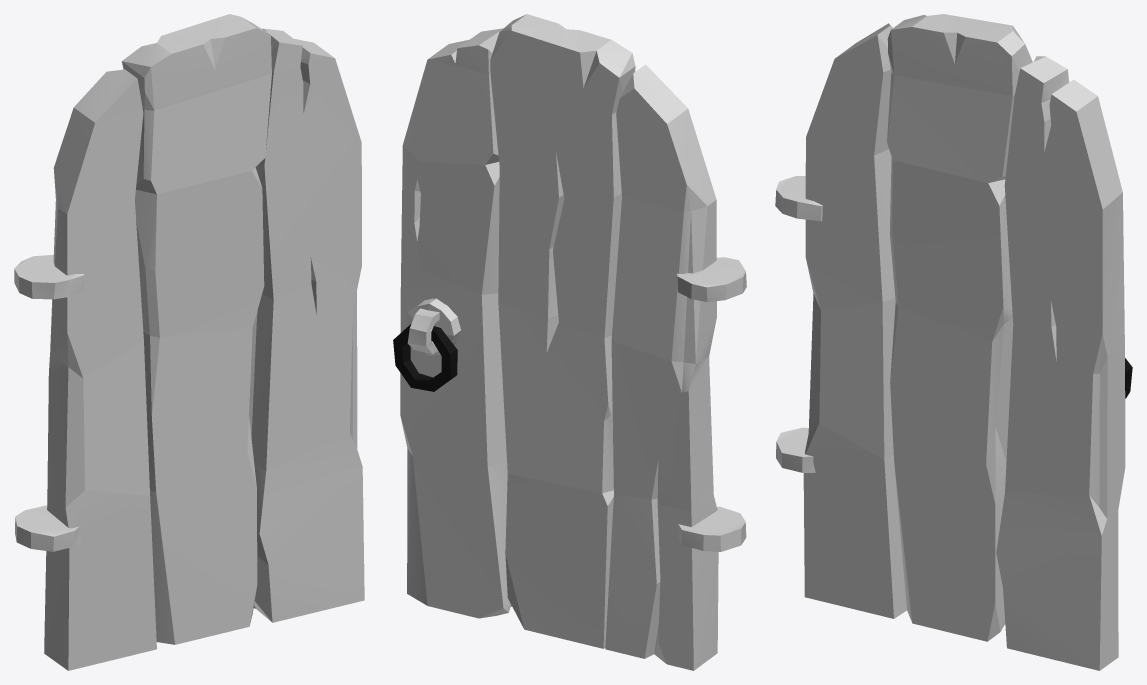
File: NGF_Env_Door_02.fbx
The picture shows the model from 3 angles, left to right: view 1: azimuth 30°, elevation 25°; view 2: azimuth 150°, elevation 25°; view 3: azimuth 330°, elevation 25°; orthographic projection.
Parts seen in each view (by area): view 1: NGF_Env_Door_02, NGF_Env_Hinges_06; view 2: NGF_Env_Door_02, NGF_Env_Hinges_06, NGF_Env_Handle_02, NGF_Env_Handle_attachment_02; view 3: NGF_Env_Door_02, NGF_Env_Hinges_06.
Boxes of the visible parts, <box> form: NGF_Env_Door_02: <box>44,14,364,670</box>; NGF_Env_Hinges_06: <box>14,254,84,551</box>; NGF_Env_Door_02: <box>400,14,718,670</box>; NGF_Env_Hinges_06: <box>677,257,746,551</box>; NGF_Env_Handle_02: <box>393,323,457,391</box>; NGF_Env_Handle_attachment_02: <box>406,298,461,355</box>; NGF_Env_Door_02: <box>803,14,1125,670</box>; NGF_Env_Hinges_06: <box>775,176,822,472</box>.
Bounding box in the file's own units: 1.35 × 2.32 × 0.3335.
1 material, 1 textured.
